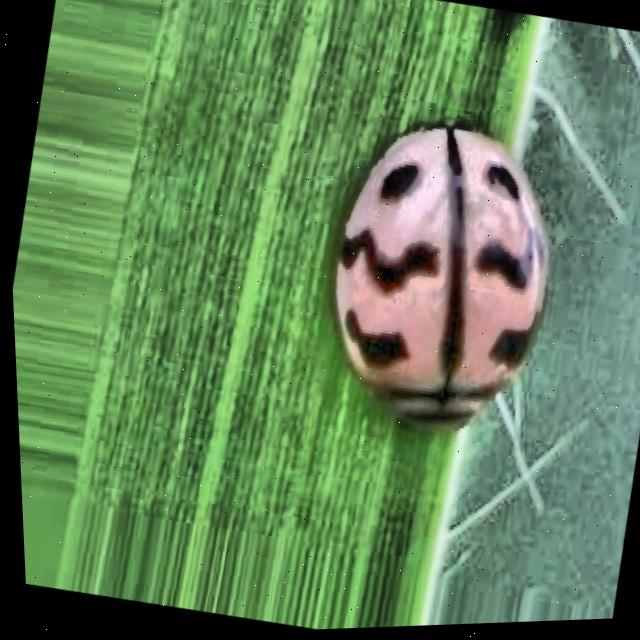Asian-Lady-beetle: (218, 59, 619, 603)
